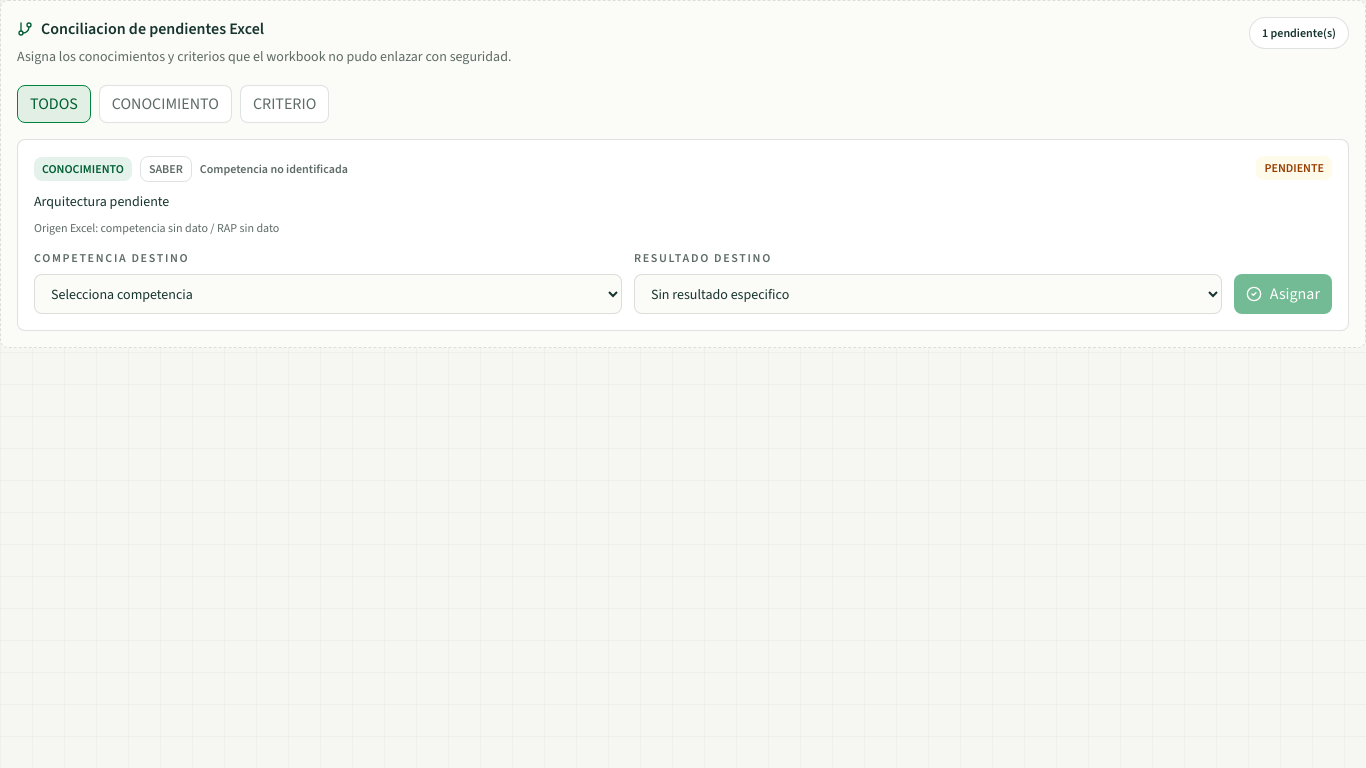
ProgramaPendientesConciliacion › selects competence and result before assigning
Check: the text "Arquitectura pendiente" is shown, box [34,192,169,211]
Select "220501046 - Desarrollar software" in the dropdown named "Competencia destino para Arquitectura pendiente" at {"x": 328, "y": 294}, box [34,274,622,314]
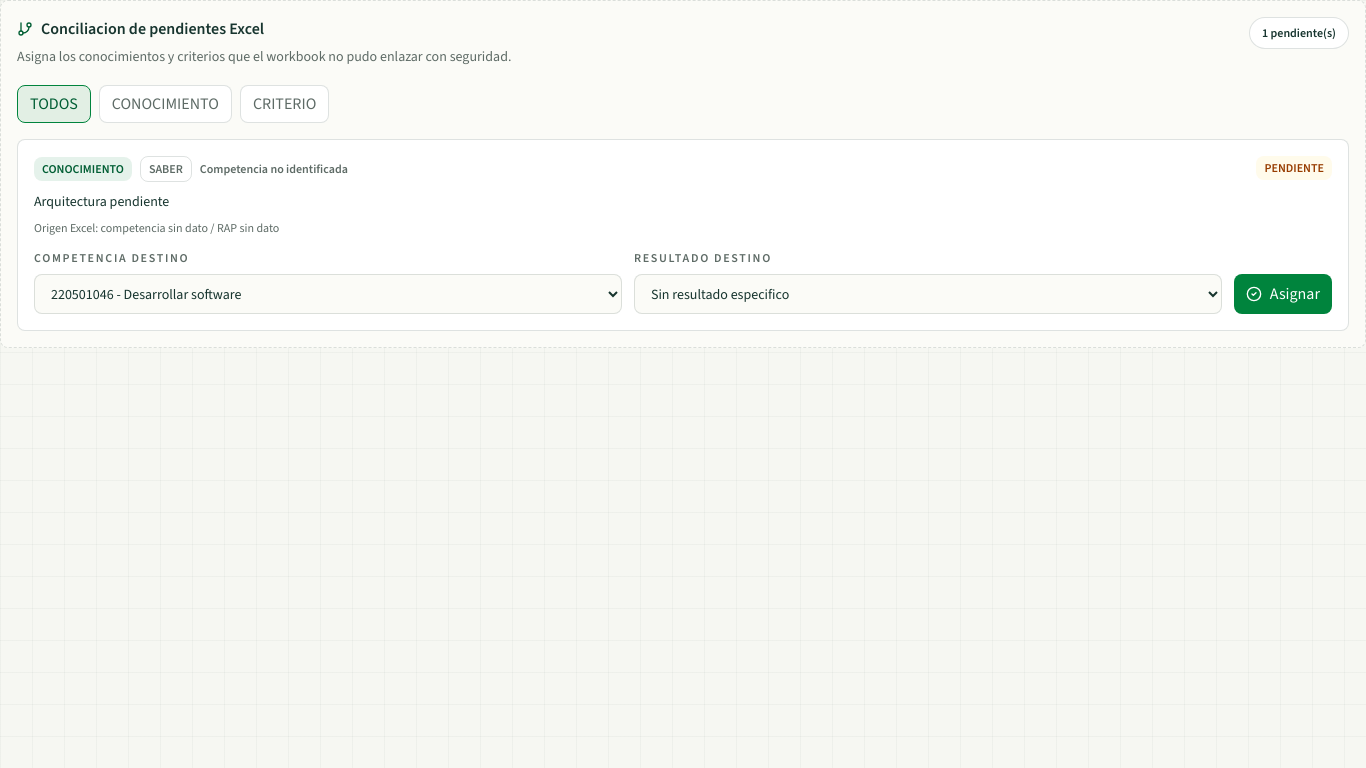
Select "RAP-1 - Construye componentes" in the dropdown named "Resultado destino para Arquitectura pendiente" at {"x": 928, "y": 294}, box [634,274,1222,314]
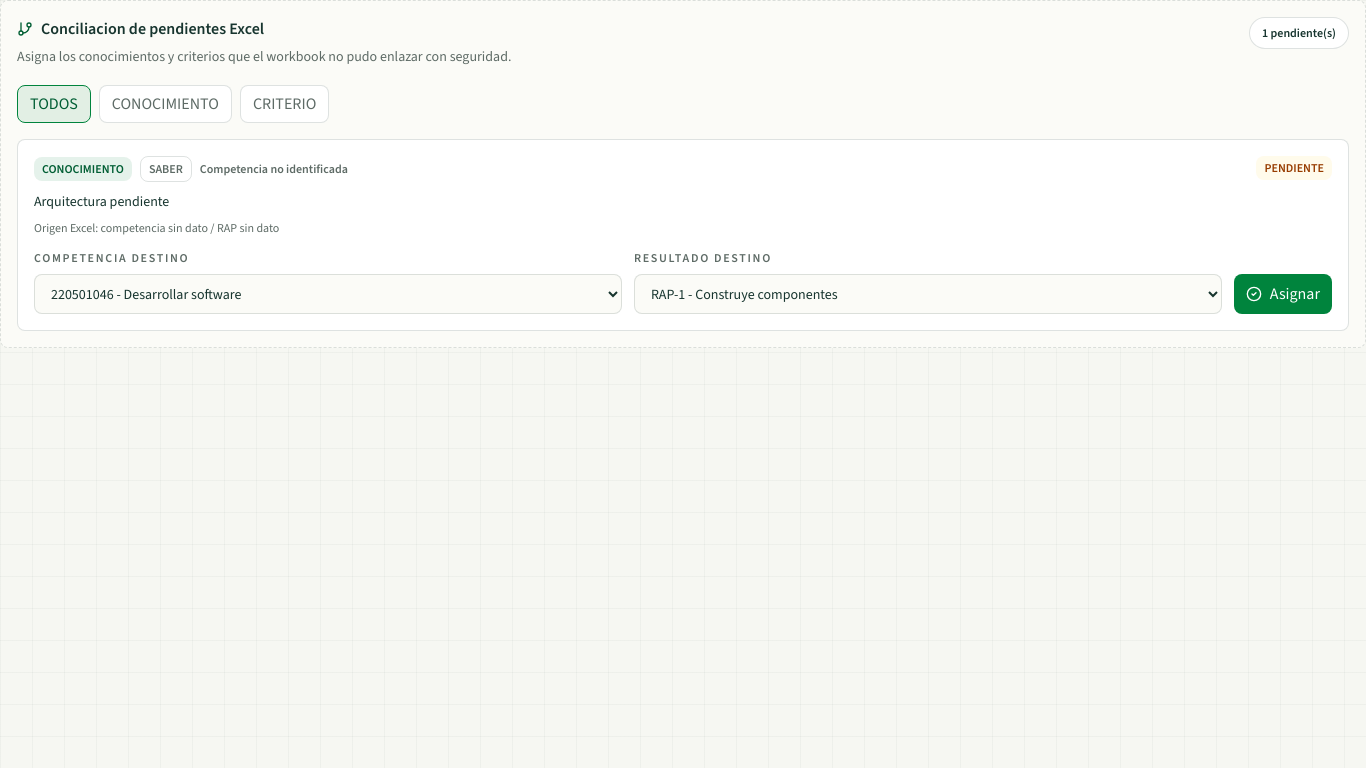
Click the button "Asignar" at {"x": 1283, "y": 294}, box [1234,274,1332,314]
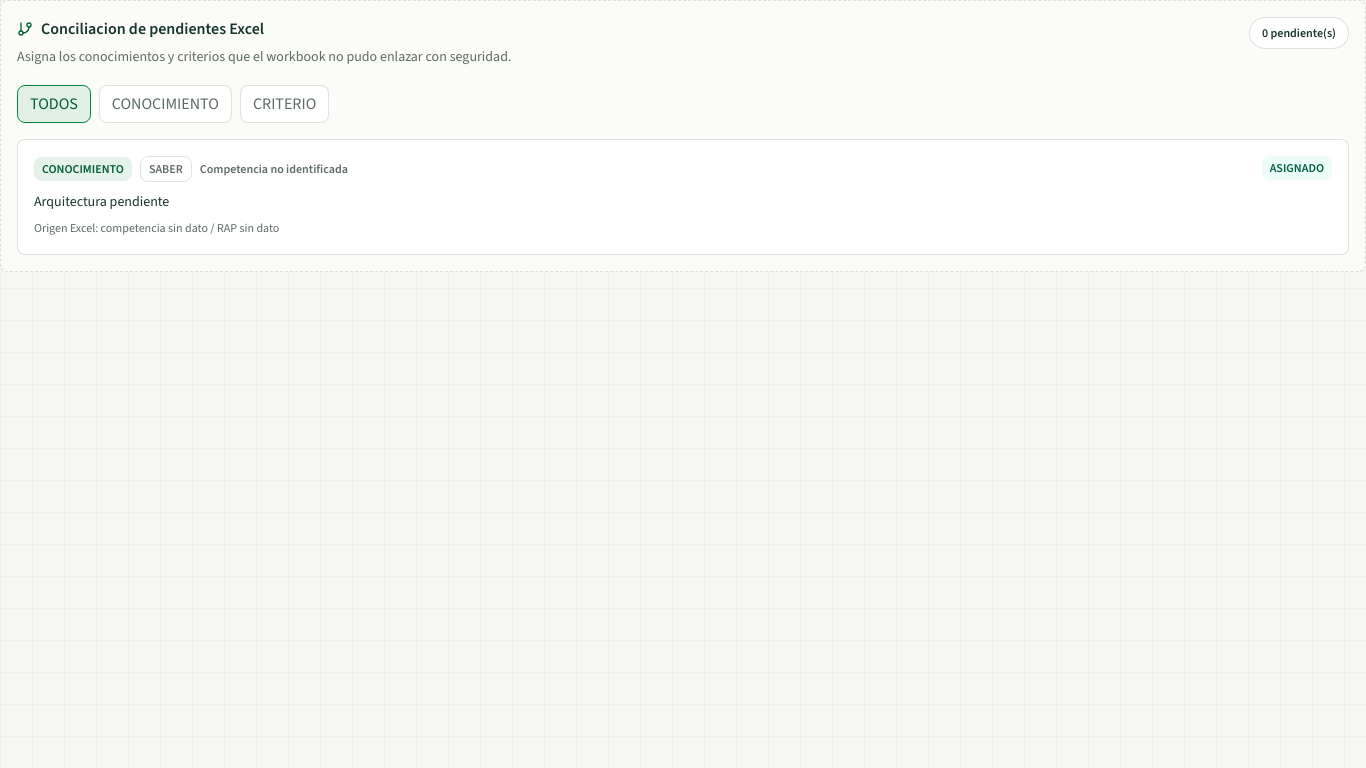
Check: the text "ASIGNADO" is shown, box [1262,156,1332,180]
